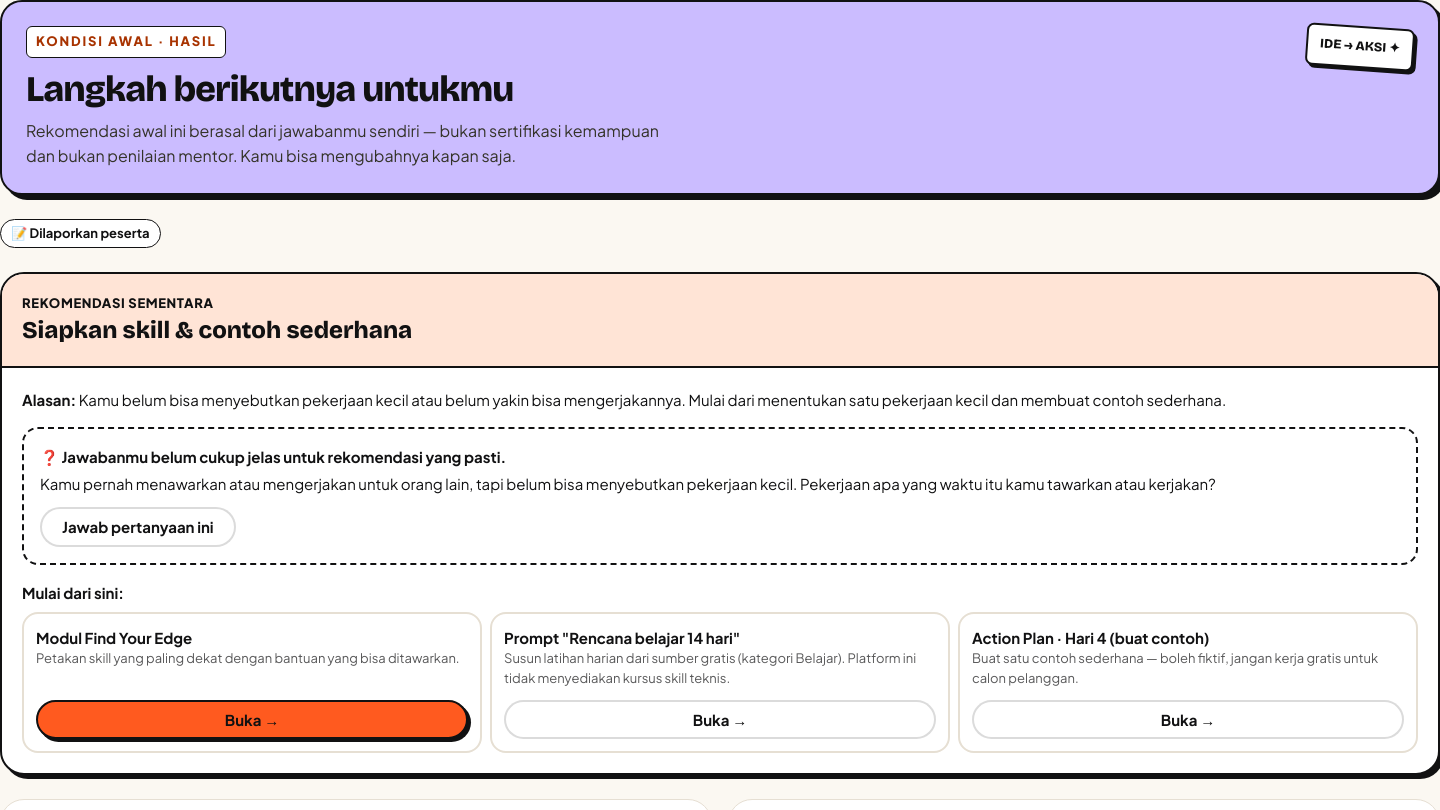
Test: Kondisi Awal — hasil › jawaban bertentangan → rekomendasi SEMENTARA + satu pertanyaan klarifikasi
Check: the text "Rekomendasi sementara" is shown, box x1=22 y1=295 x2=214 y2=311
Check: the text "❓ Jawabanmu belum cukup jelas untuk rekomendasi yang pasti." is shown, box x1=40 y1=447 x2=506 y2=466
Click the button "Jawab pertanyaan ini": (138, 527) x1=40 y1=507 x2=236 y2=547
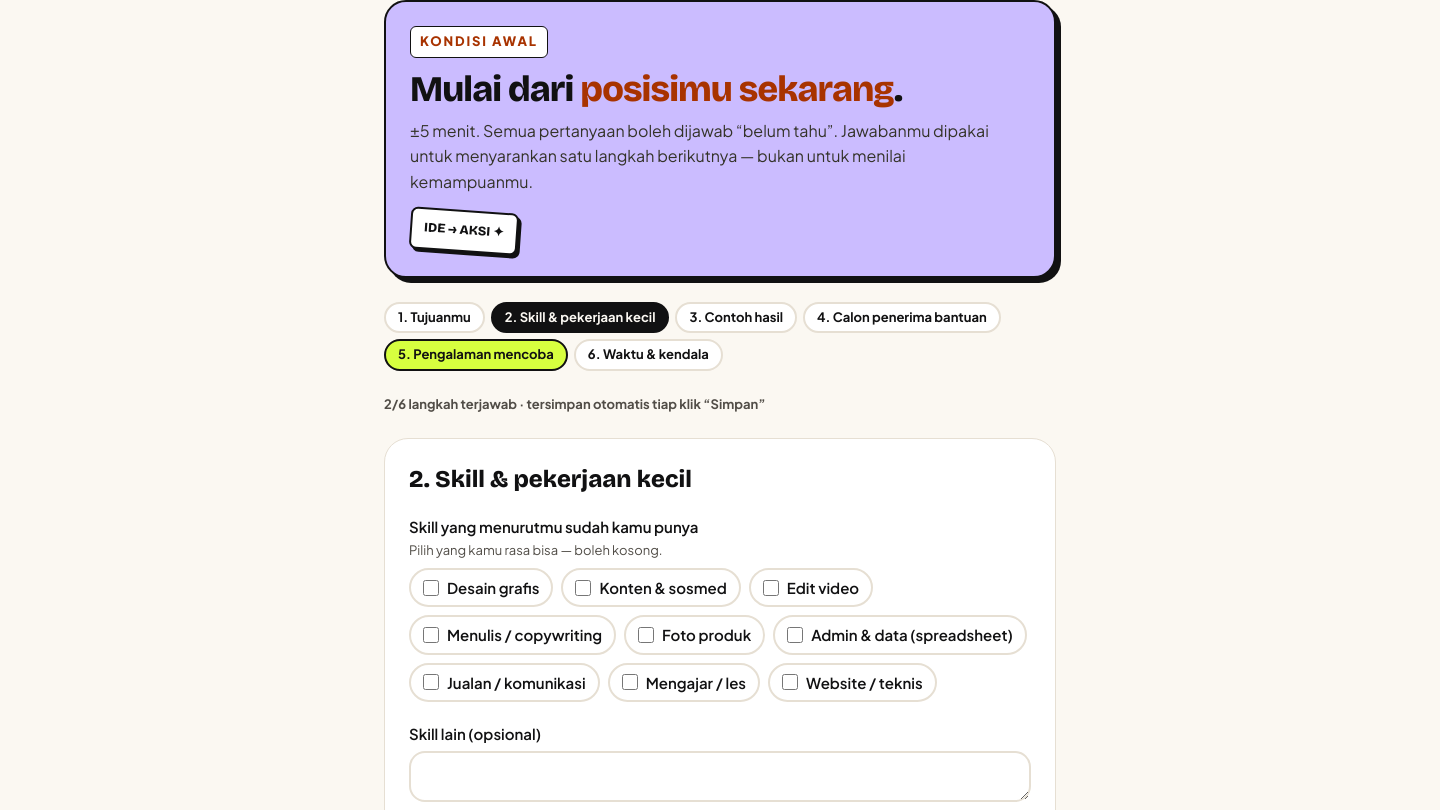
Check: the heading "2. Skill & pekerjaan kecil" is shown, box x1=409 y1=465 x2=692 y2=493
